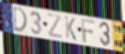3: (98, 21, 111, 48), (30, 10, 42, 36)
D: (12, 5, 28, 33)
F: (81, 18, 96, 44)
K: (64, 16, 77, 42)
Z: (47, 13, 63, 40)
